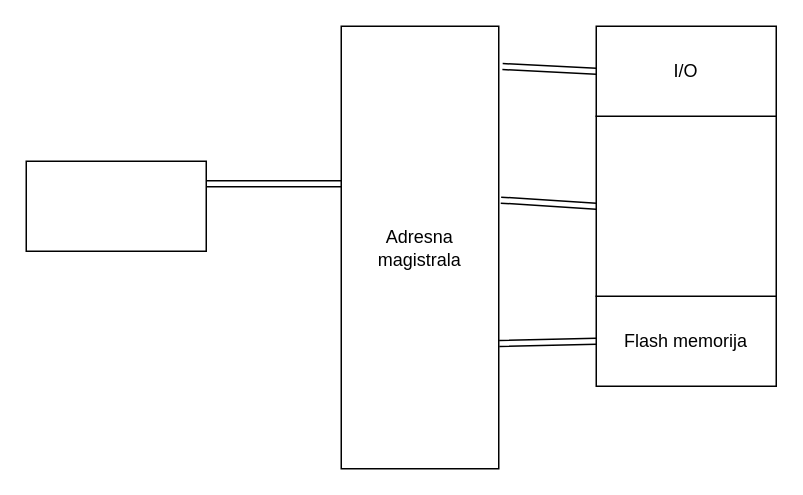
Image size: 803x495. Some labels were removed from this diagram. Each missing label, with the centre of its shape:
CPU: point (115, 205)
DRAM: point (685, 205)
